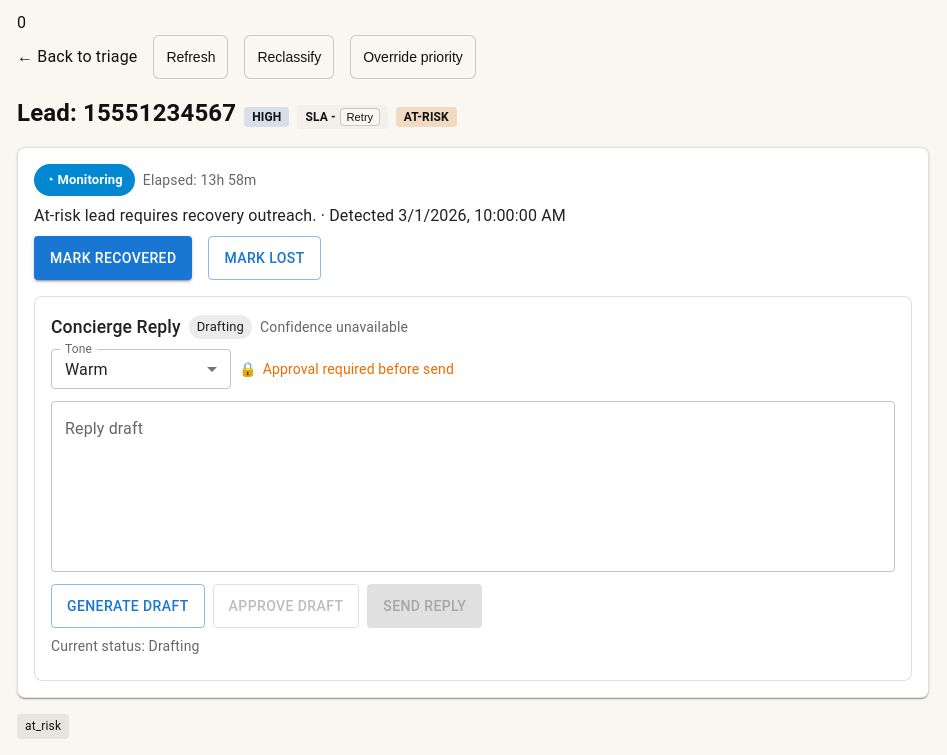
Test: lead-detail recovery flow integration › requires re-approval when a VIP/high approved draft is edited
Click the button "Generate draft" at point(128, 606), box [51, 584, 205, 628]
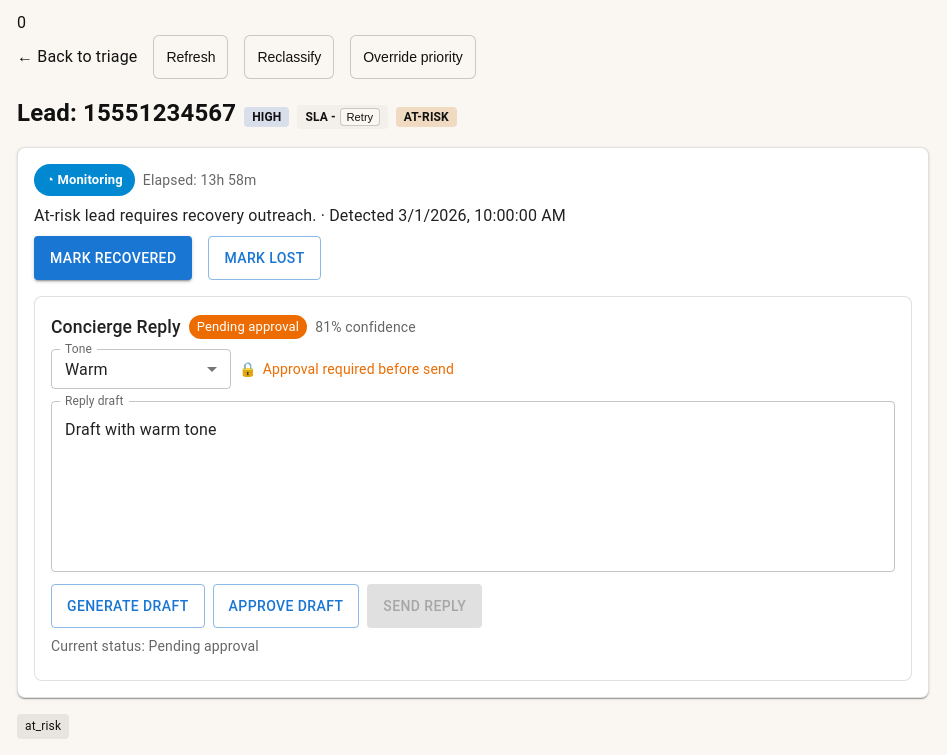
Now the button "Approve draft" is enabled
Click the button "Approve draft" at point(286, 606), box [213, 584, 359, 628]
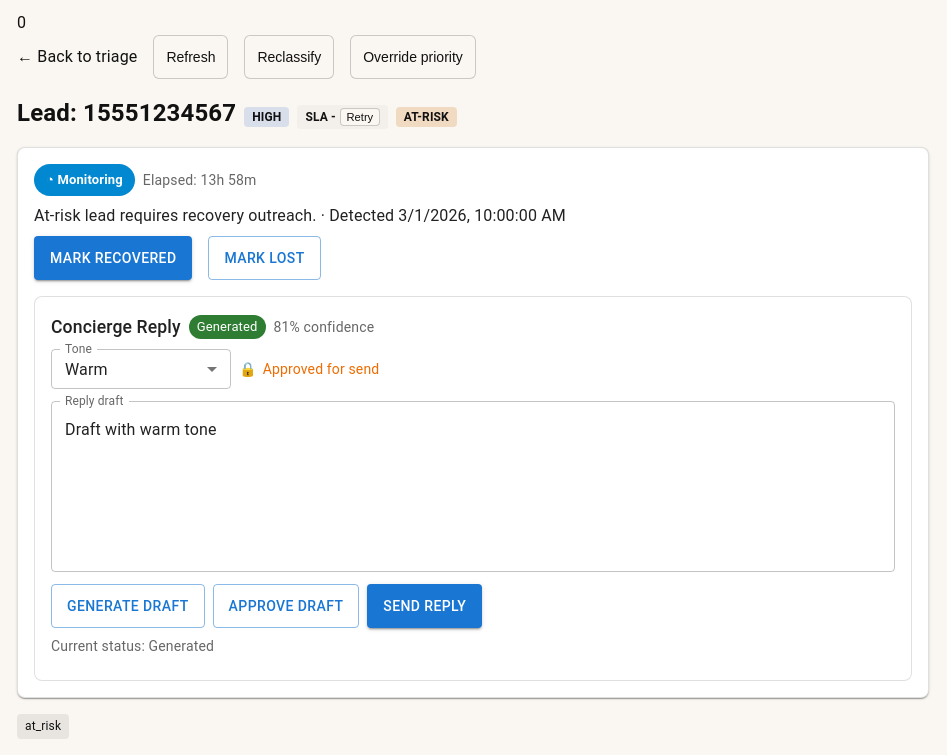
Now the button "Send reply" is enabled, box [367, 584, 482, 628]
Replace the text in the text box labelled "Reply draft" with "Edited after approval" at point(473, 487), box [65, 418, 881, 556]
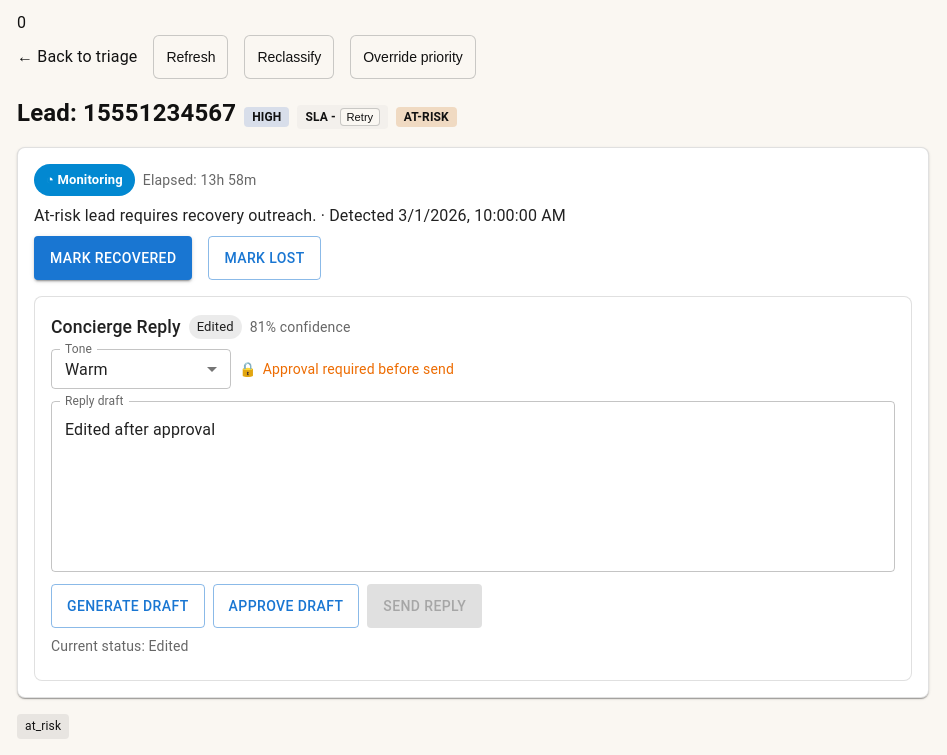
Now the text "Current status: Edited" is shown, box [51, 638, 188, 654]
Now the button "Send reply" is disabled, box [367, 584, 482, 628]
Click the button "Approve draft" at point(286, 606), box [213, 584, 359, 628]
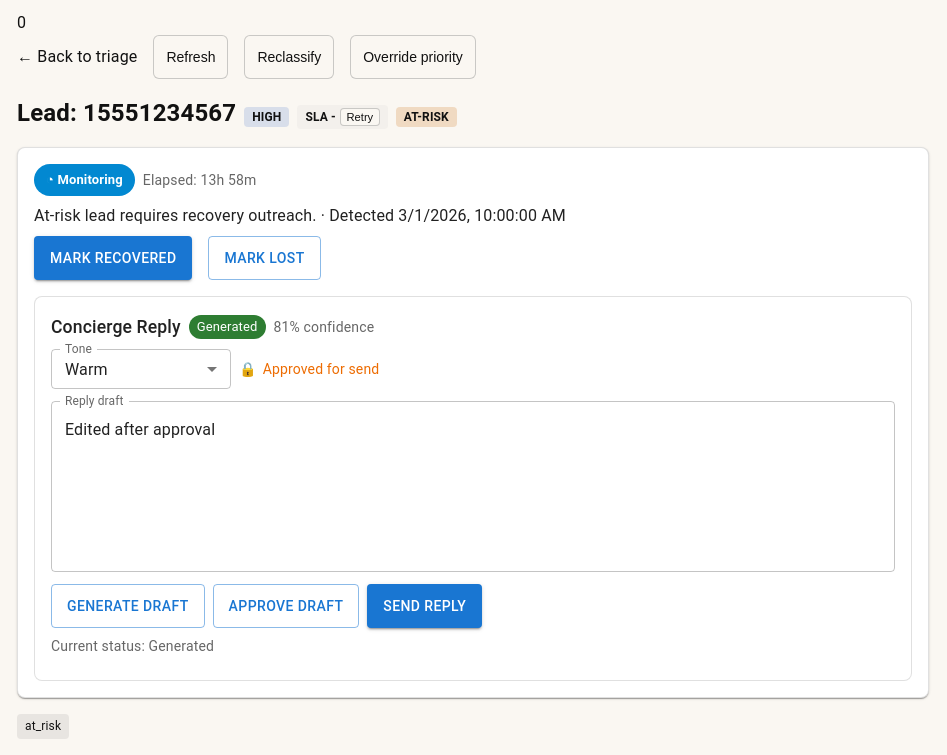
Now the button "Send reply" is enabled, box [367, 584, 482, 628]
